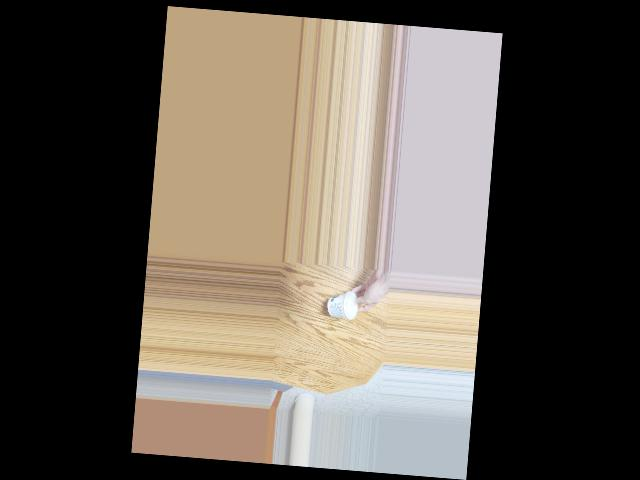cotage: (322, 293, 356, 325)
